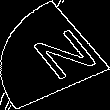N_SE: (13, 23, 97, 87)
